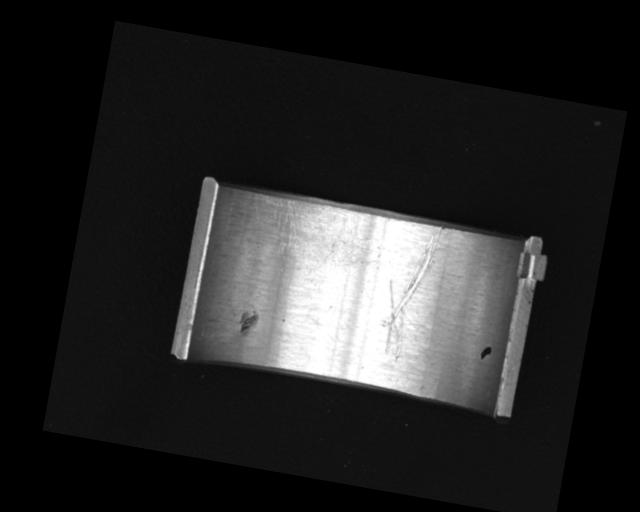blot: (478, 344, 494, 363)
bruise: (236, 308, 260, 337)
nick: (374, 219, 446, 366)
scratch: (249, 193, 363, 283)
